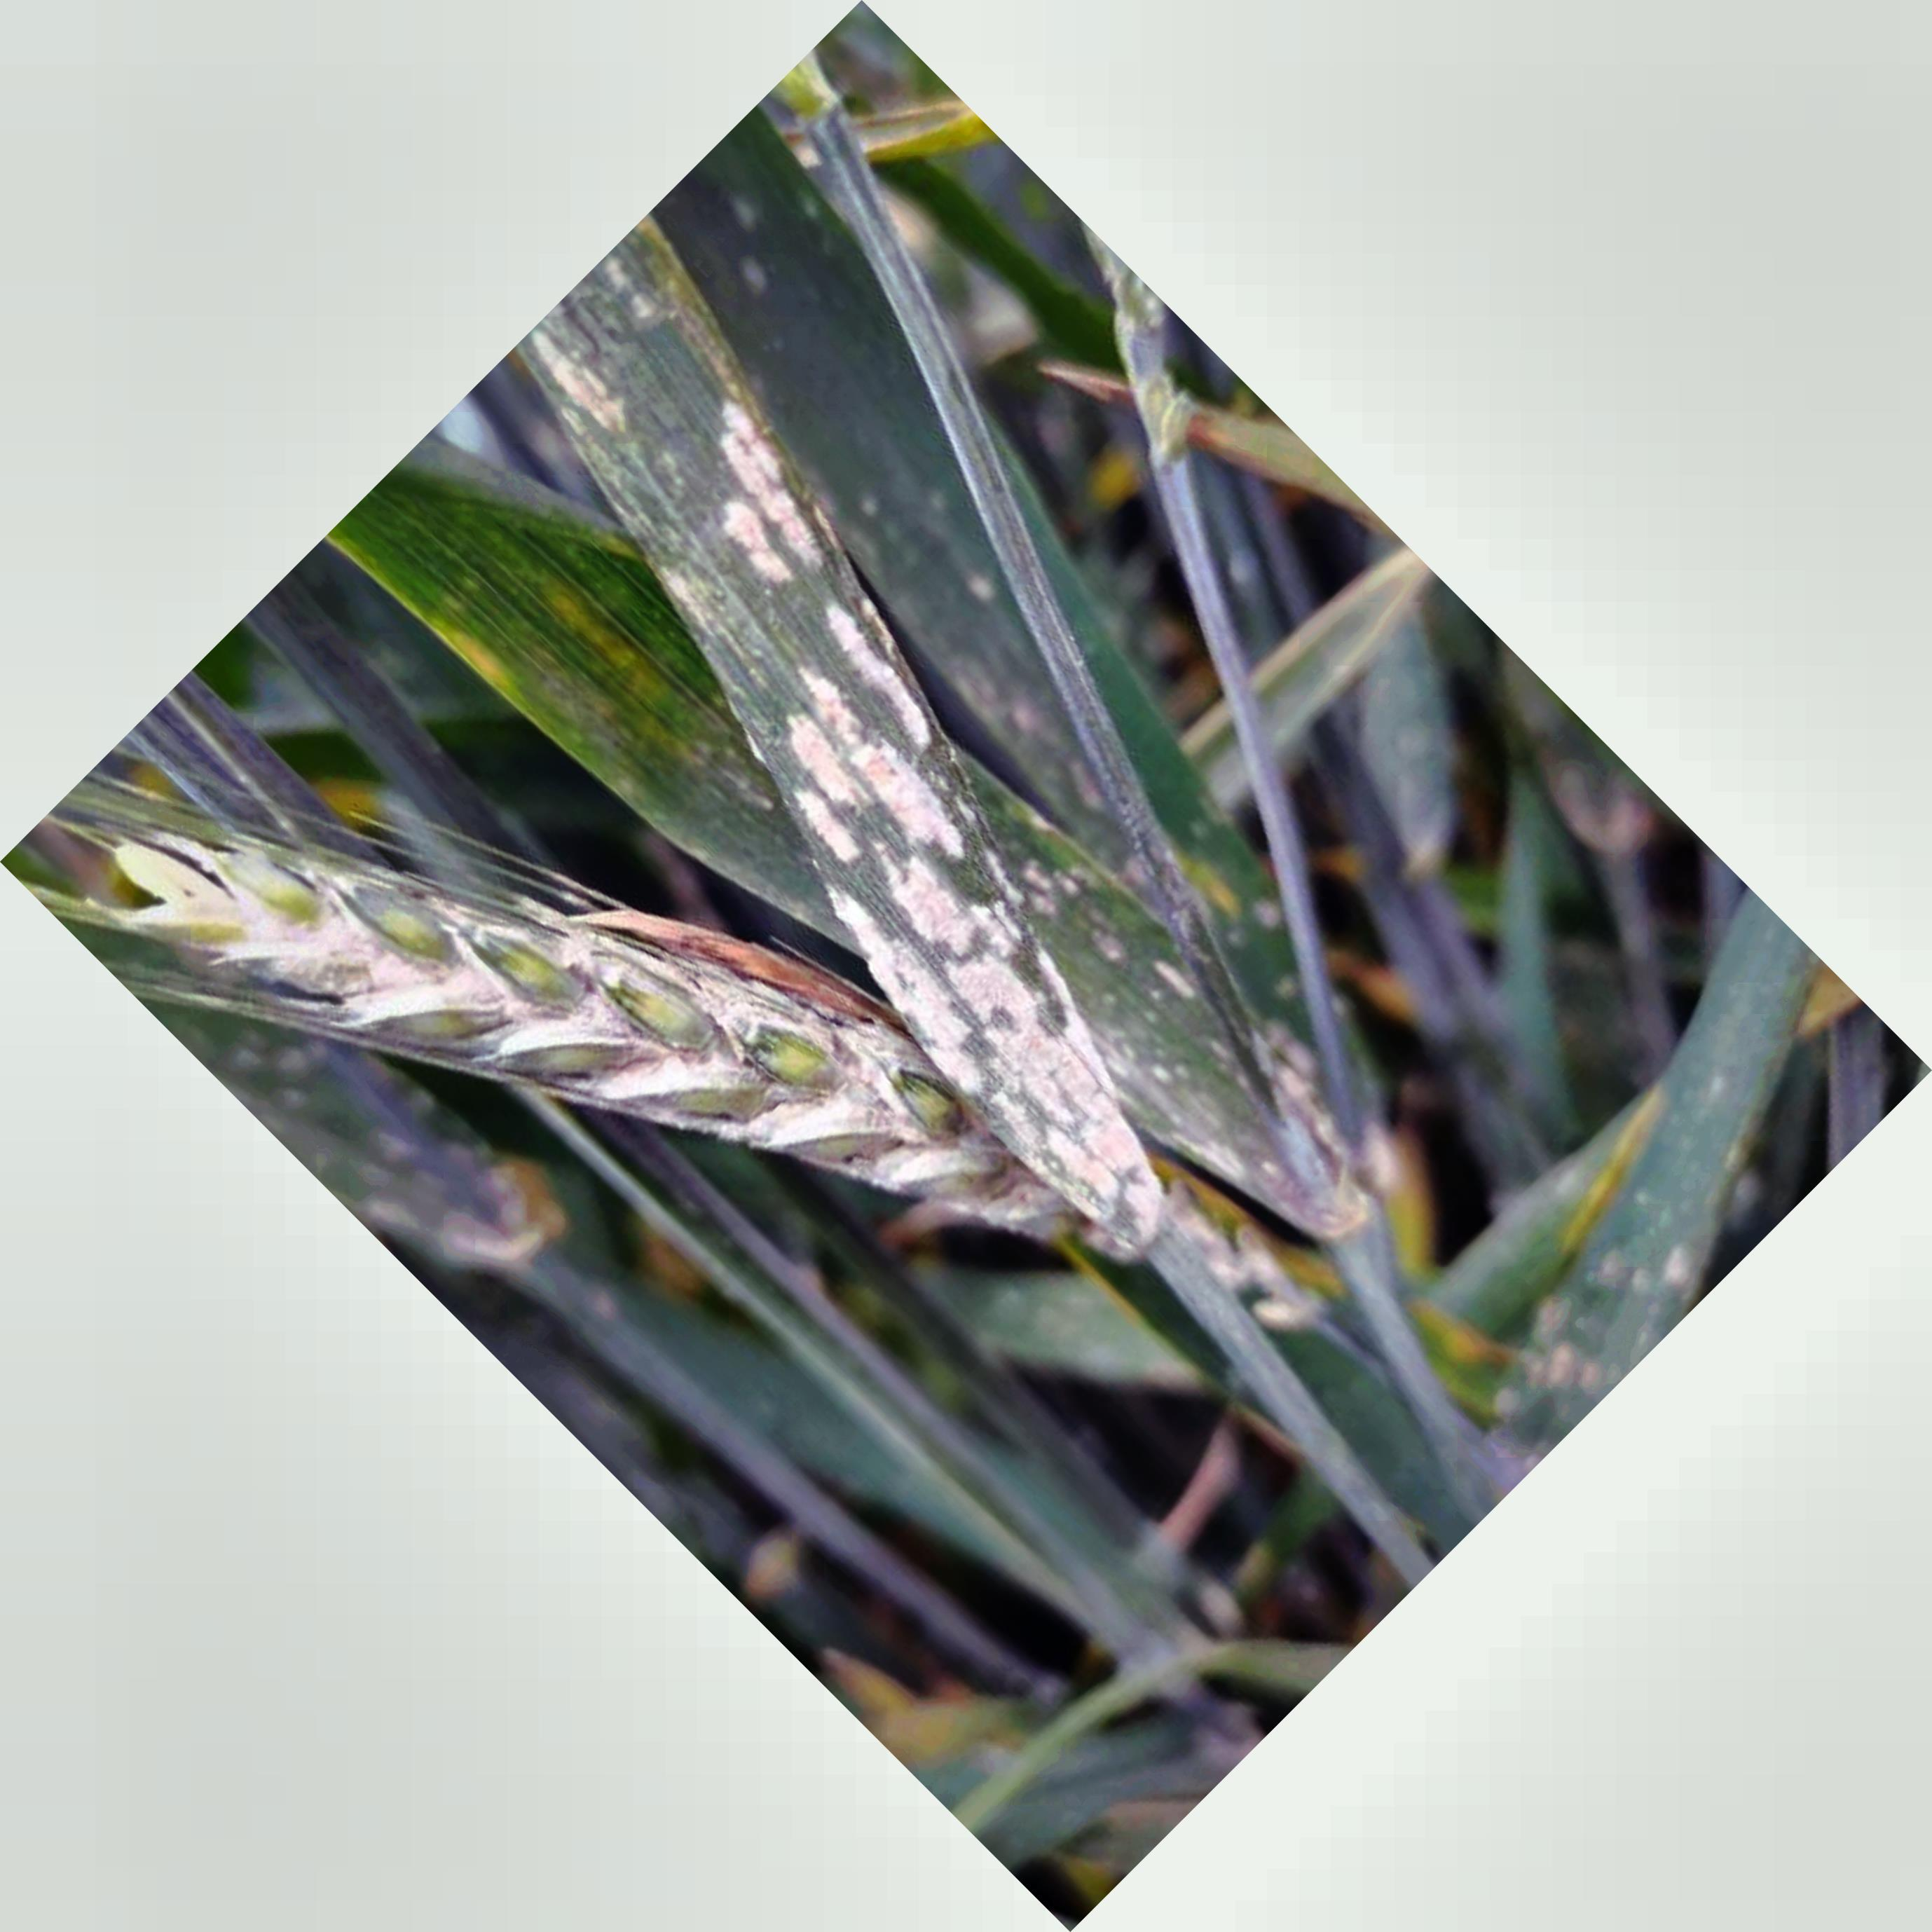Powdery Mildew: (713, 510, 1161, 1210)
